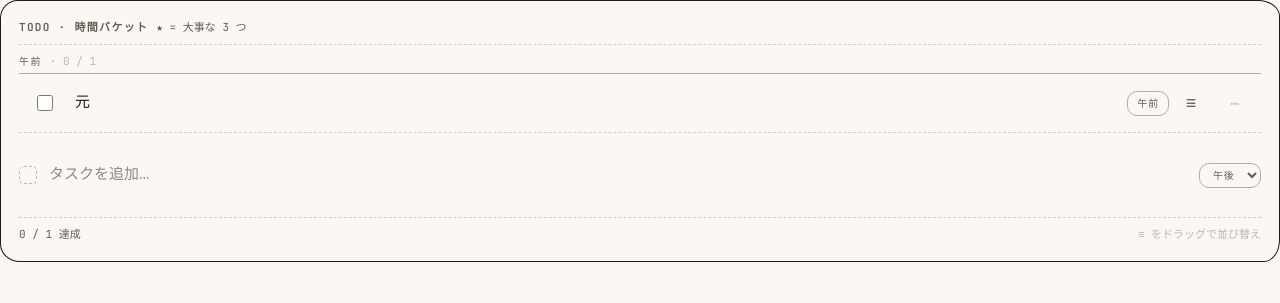
Test: TodoCard › updateTodo が失敗したら元テキストにロールバックし alert が出る
Click the button named "元 を編集".
click(83, 102)  # box [75, 92, 1119, 114]
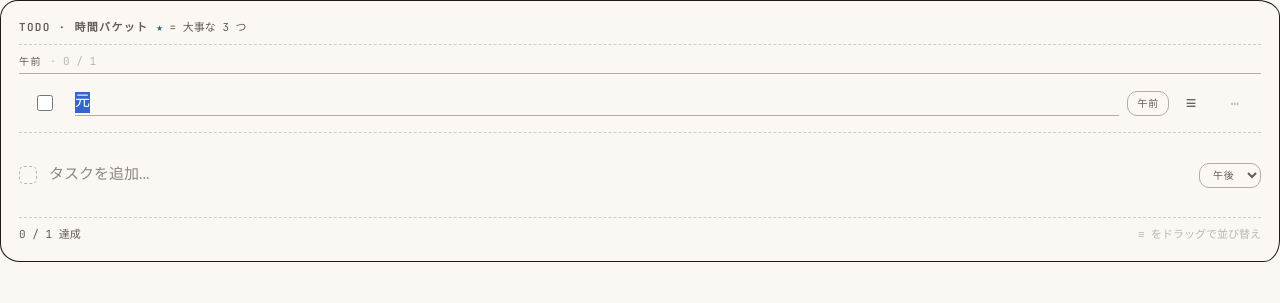
Replace the text in the field named "タスク本文を編集" with "失敗" at [597, 103], box [75, 90, 1119, 116]
Then press Enter
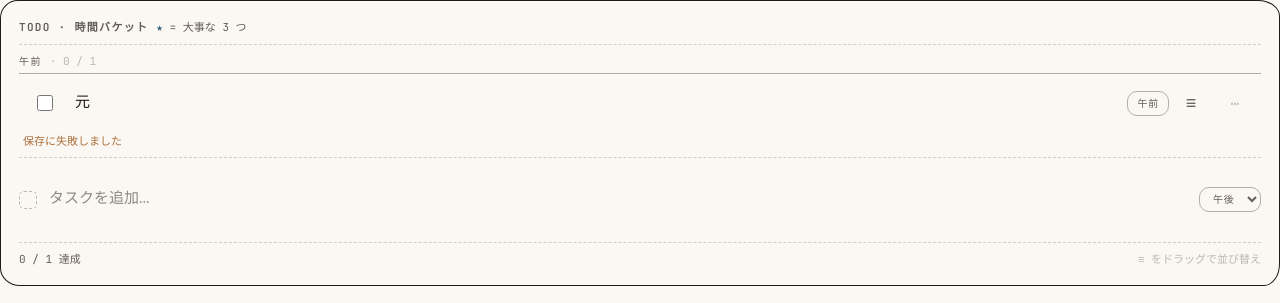
Expected: the button named "元 を編集" is shown, [75, 92, 1119, 114]
Expected: the message shows "保存に失敗", [23, 134, 122, 148]
